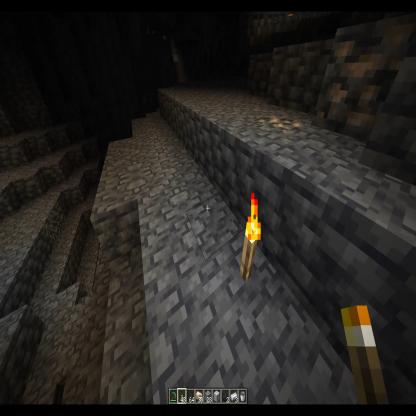iron ore: (313, 24, 416, 140), (256, 109, 312, 136)
